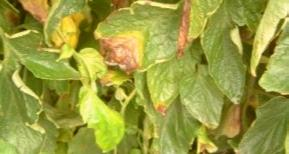Tomato mold leaf: (91, 0, 223, 82), (197, 0, 266, 103), (5, 28, 83, 86), (229, 94, 289, 154)
